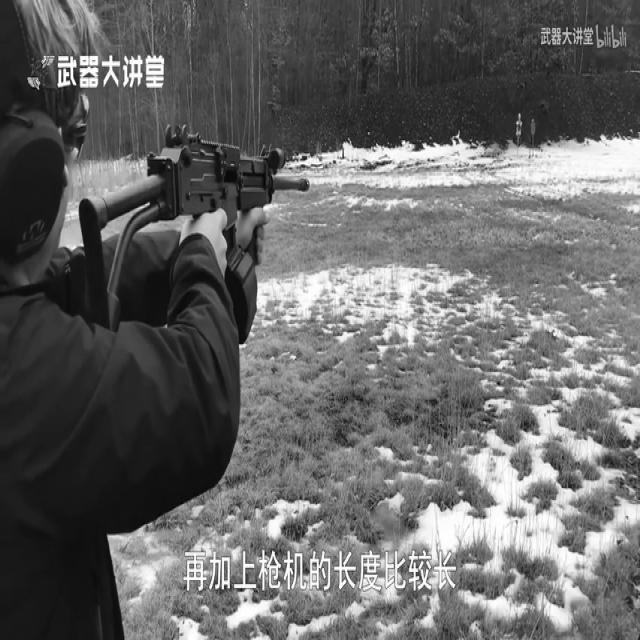Sniper: (34, 12, 342, 431)
